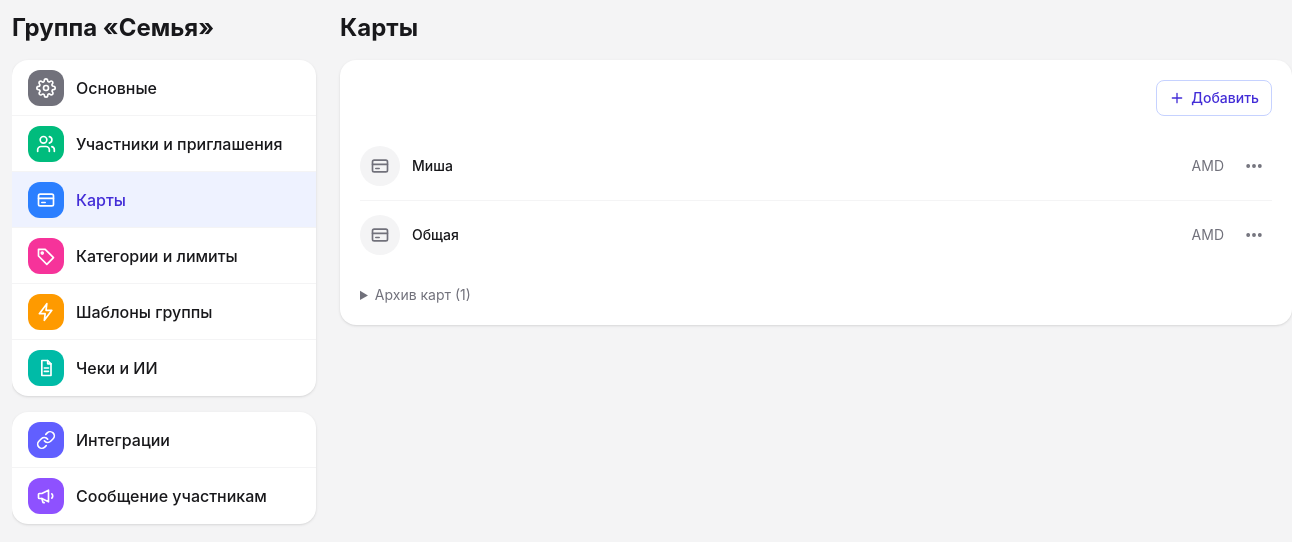
it: меню «⋯» › кнопка с aria-haspopup, открывается кликом, пункты — menuitem
Expected: the heading "Карты" is shown, top-left (340, 13), bottom-right (418, 42)
Click the button named "Действия: Общая" at (1254, 235), box top-left (1236, 217), bottom-right (1272, 253)
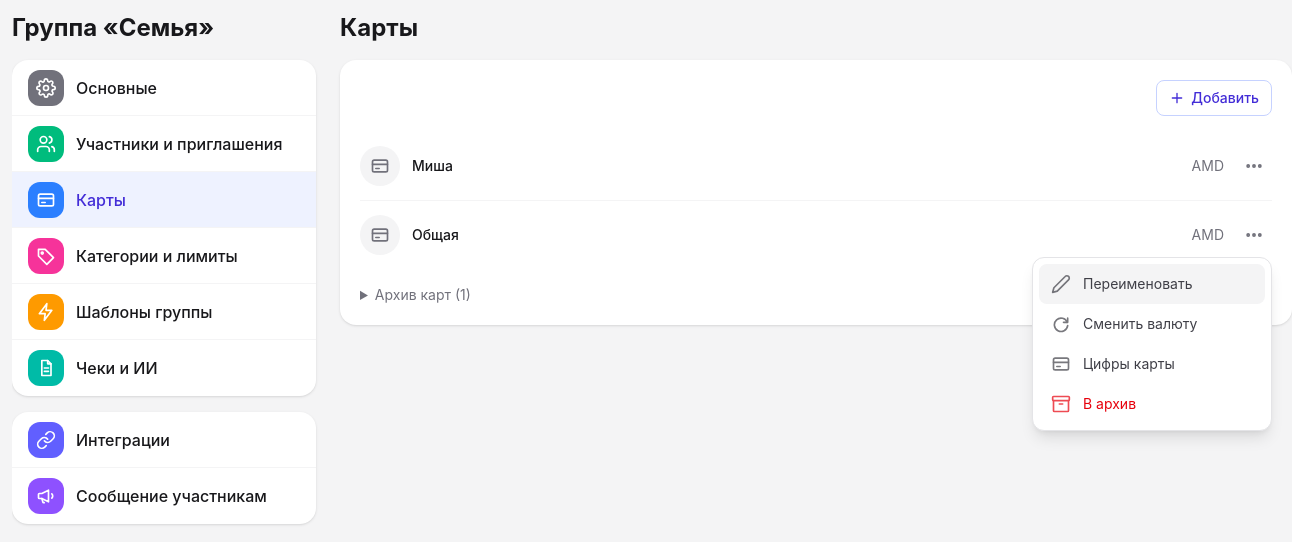
Result: the menu items read "Переименовать", "Сменить валюту", "Цифры карты", "В архив", in this order at top-left (1039, 264), bottom-right (1265, 304); top-left (1039, 304), bottom-right (1265, 344); top-left (1039, 344), bottom-right (1265, 384); top-left (1039, 384), bottom-right (1265, 424)
